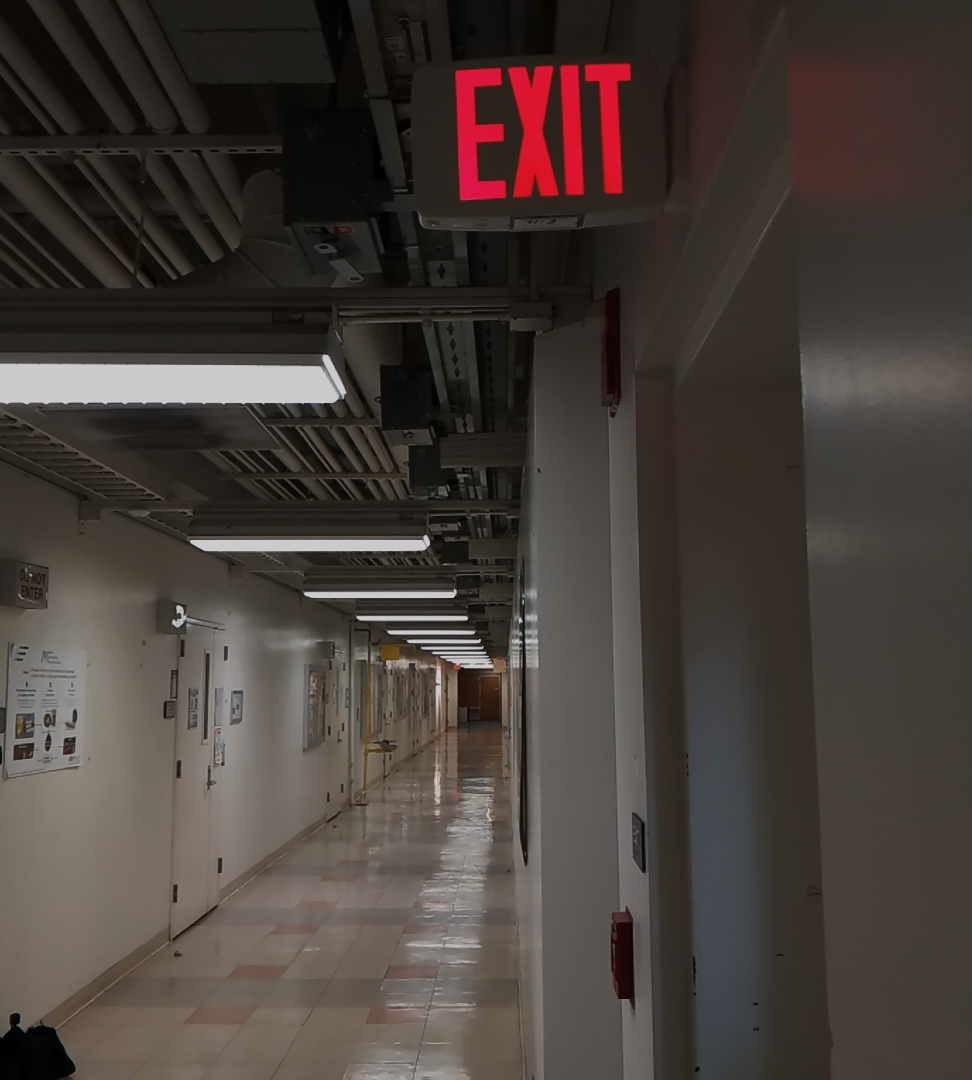emergency_exit: (407, 50, 672, 234)
